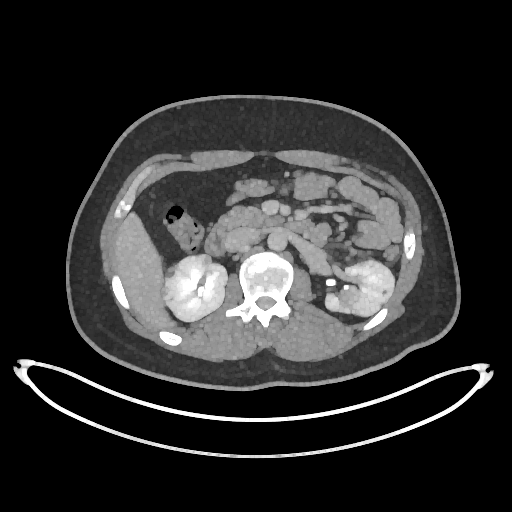Lesion: (334, 284, 362, 317)
